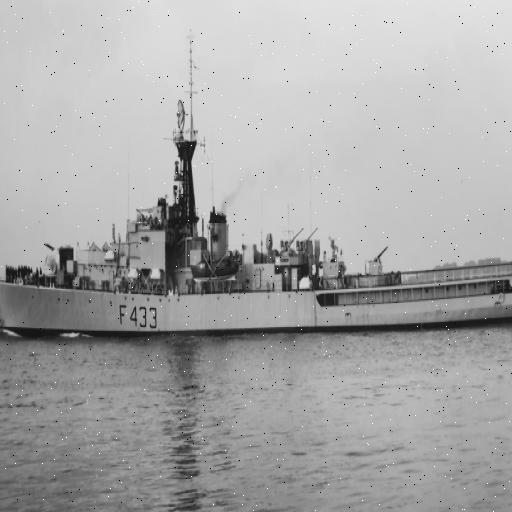Fragata: (1, 25, 512, 345)
